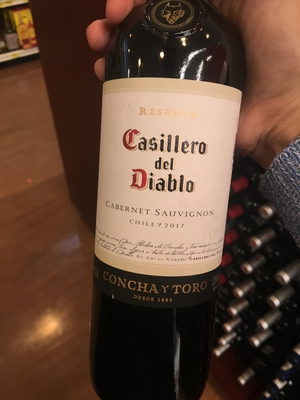casillero del diablo cabernet sauvignon: (79, 18, 248, 400)
